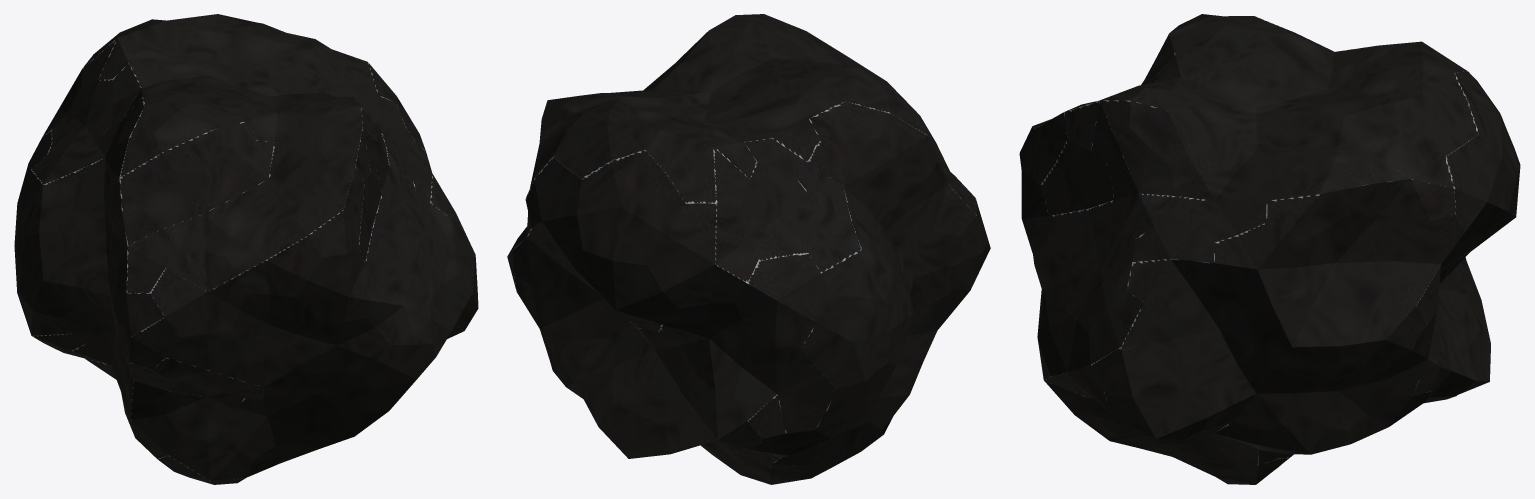
File: asteroid6.dae
3 renders of one model, left to right at view 1: azimuth 30°, elevation 25°; view 2: azimuth 150°, elevation 25°; view 3: azimuth 270°, elevation 25°, orthographic. The views are drawn at different scales.
Parts seen in each view (by area): view 1: asteroid6; view 2: asteroid6; view 3: asteroid6.
Boxes of the visible parts, x1,y1,x2,y2 form: asteroid6: (14,14,478,484); asteroid6: (507,14,990,484); asteroid6: (1019,14,1520,484).
Size of the model in its own units: 234 by 240 by 257.
Materials: 1 (1 with a texture image).
